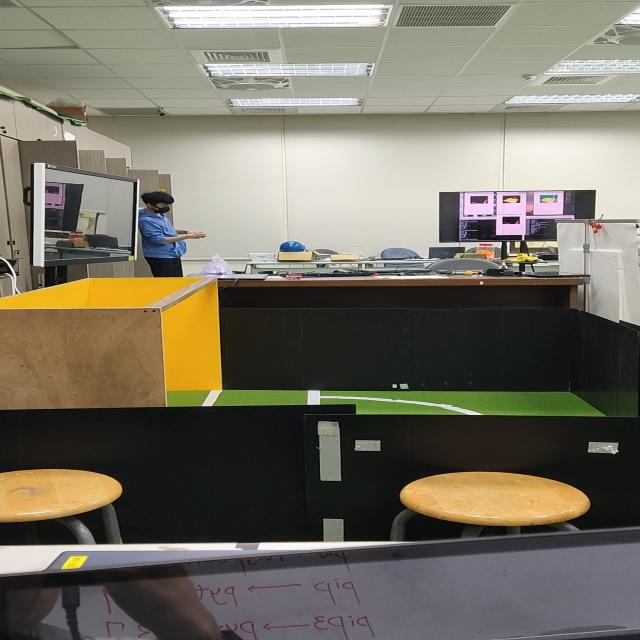person: (132, 186, 205, 272)
